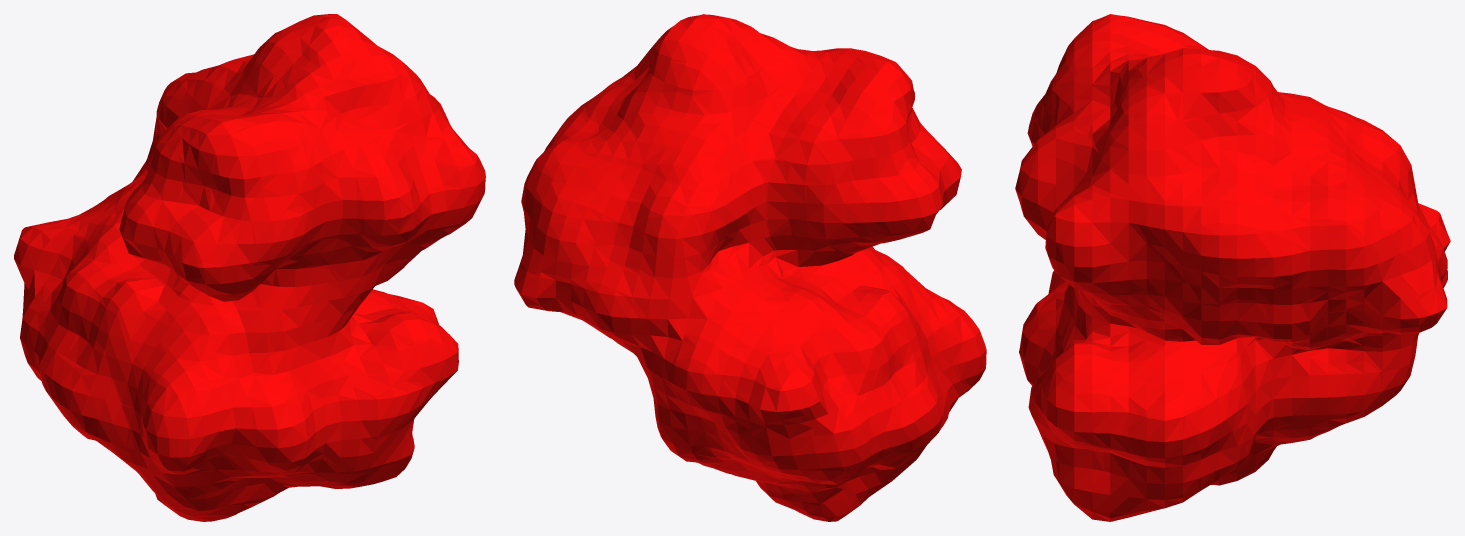
Rendered from ddlB_coarse.dae.
3 views of the same model, side by side, from view 1: azimuth 30°, elevation 25°; view 2: azimuth 150°, elevation 25°; view 3: azimuth 270°, elevation 25° (orthographic). The views are drawn at different scales.
Visible parts, largest first — view 1: ddlB; view 2: ddlB; view 3: ddlB.
Boxes of the visible parts, x1,y1,x2,y2 form: ddlB: (14,14,485,521); ddlB: (514,14,986,521); ddlB: (1015,14,1450,521).
Size of the model in its own units: 64.36 by 76.75 by 60.59.
